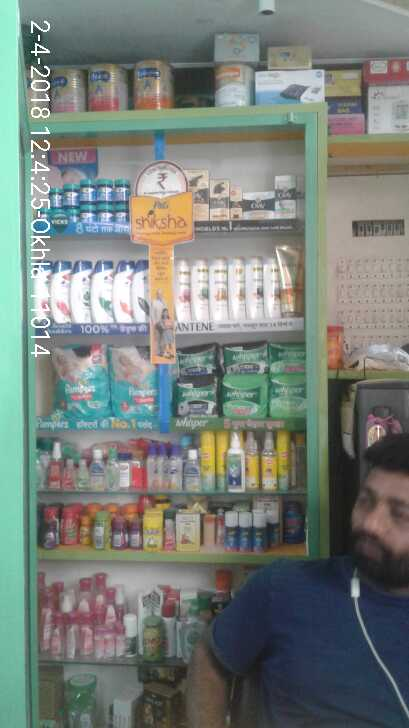vicks: (35, 178, 132, 224)
